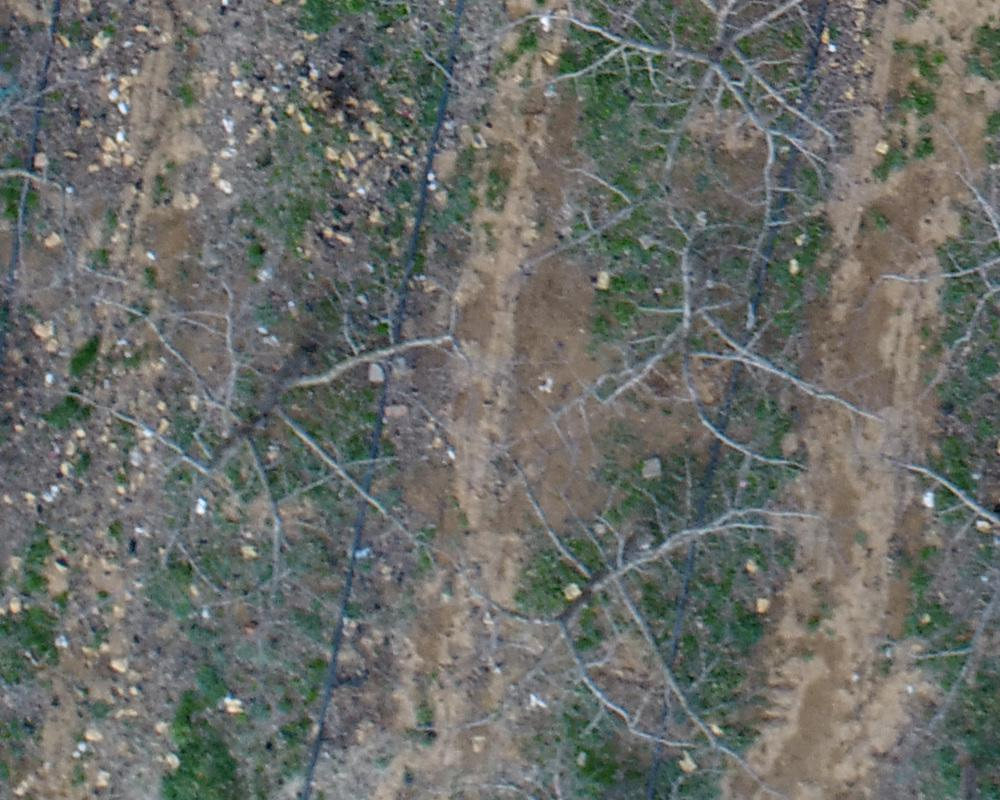apple: (48, 250, 484, 592), (441, 444, 834, 778), (535, 192, 892, 480), (514, 10, 902, 205)
